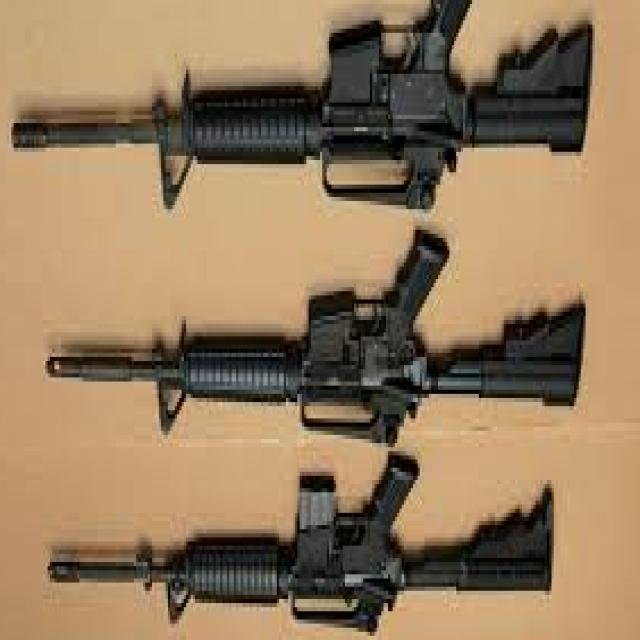gun: (2, 0, 613, 222), (21, 220, 602, 442), (38, 450, 569, 625)
